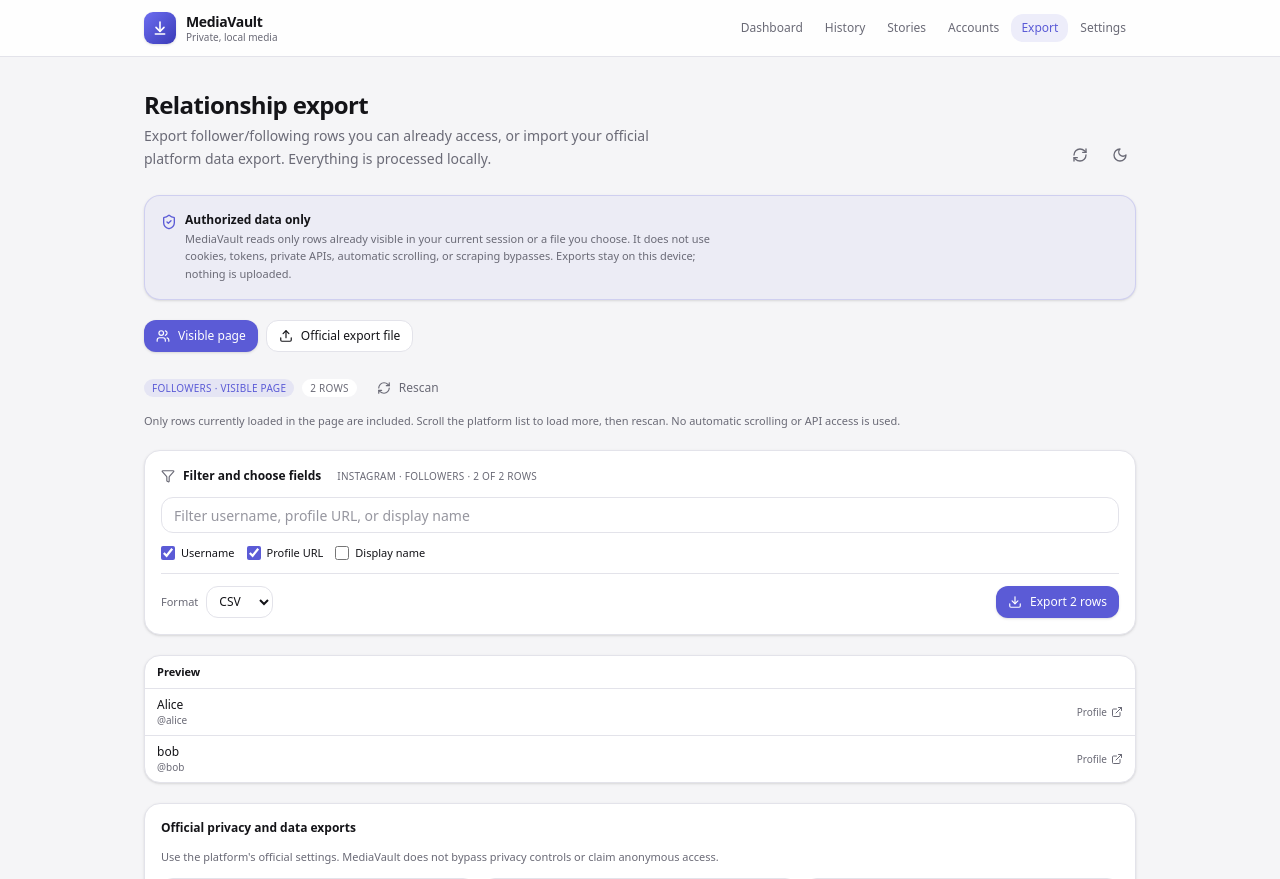
Test case: relationship export page › reads visible rows, filters, selects fields, and previews an export
The image size is (1280, 879).
Expected: the heading "Relationship export" is shown, [144,88,368,121]
Expected: the text "Followers · visible page" is shown, [144,379,294,397]
In the field named "Filter relationship rows": (640, 515) [161,497,1119,533], type "ali"
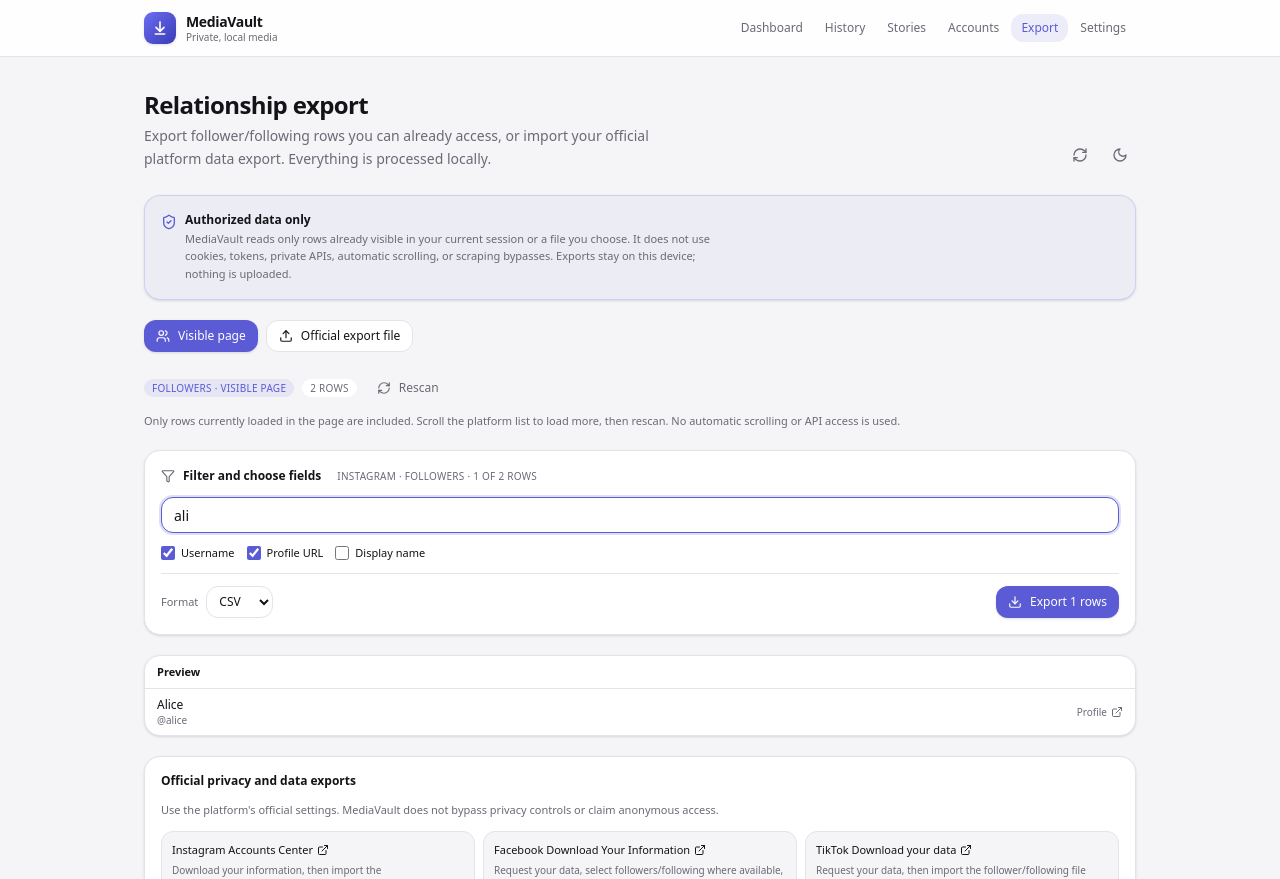
Expected: the text "Alice" is shown, [157,697,187,713]
Now the text "@bob" is gone
Click the checkbox labelled "Display name": (342, 553) [335,546,349,560]
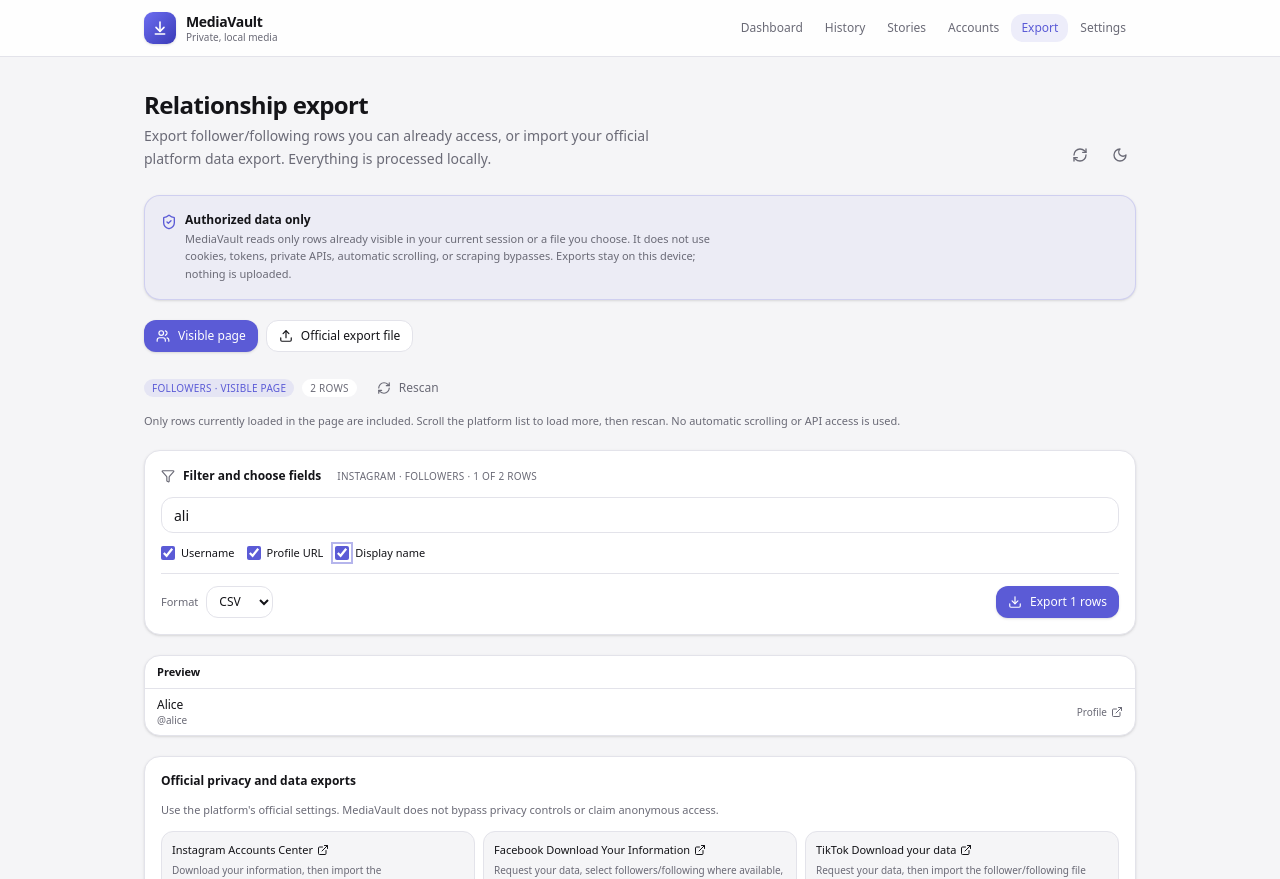
Now the button "Export 1 rows" is shown
Click the button "Export 1 rows": (1058, 602) [996,586,1119,618]
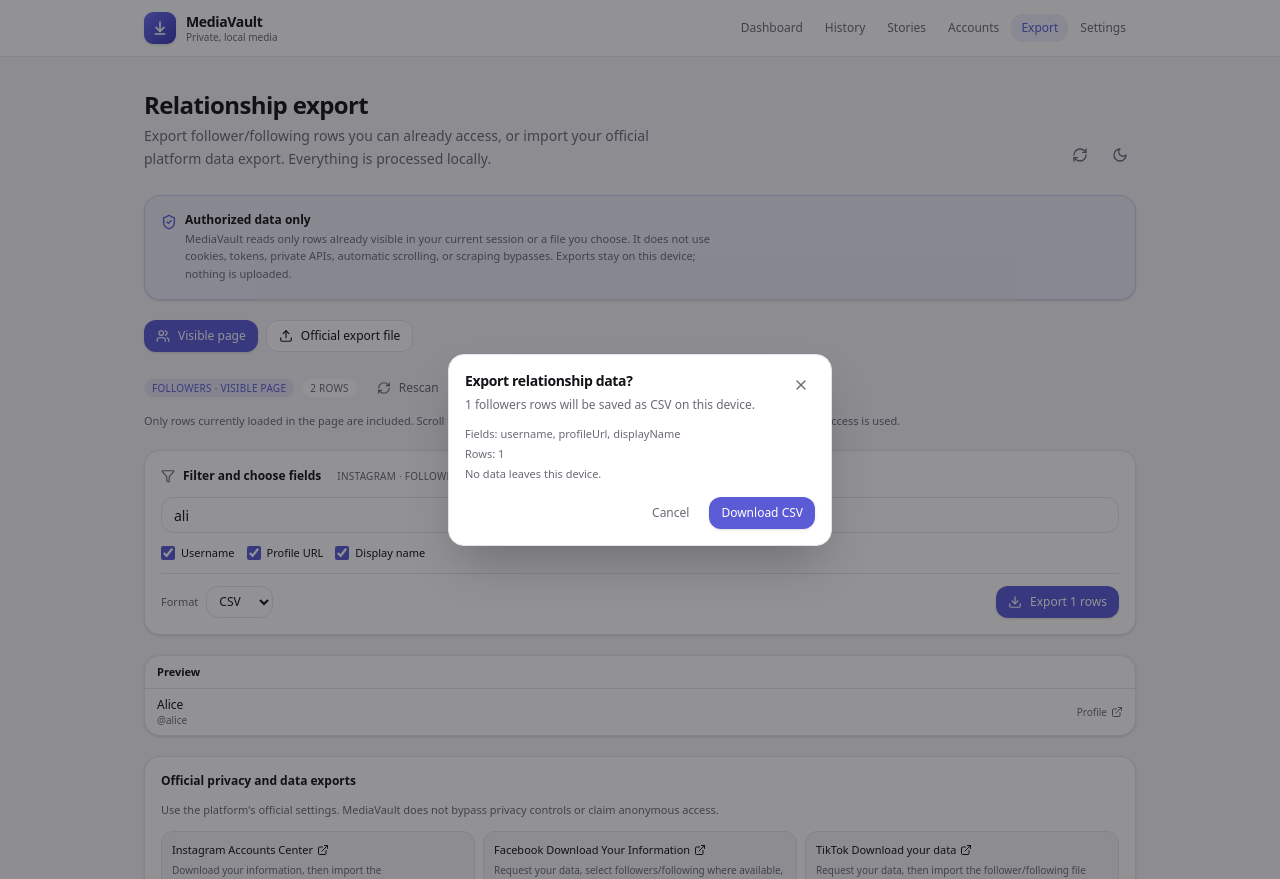
Now the heading "Export relationship data?" is shown, box [465,371,632,390]
Now the text "Fields: username, profileUrl, displayName" is shown, box [465,426,680,441]
Now the text "No data leaves this device." is shown, box [465,466,601,481]
